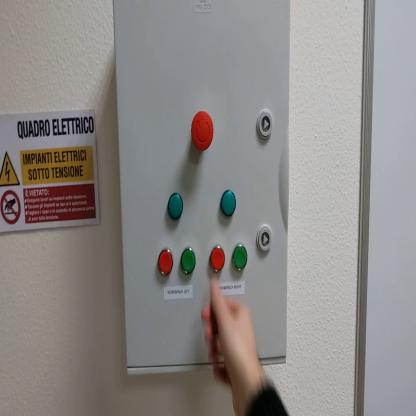hand: (205, 275, 262, 385)
left green button: (183, 249, 196, 273)
left red button: (162, 251, 173, 277)
right green button: (232, 247, 248, 272)
right red button: (210, 246, 226, 274)
